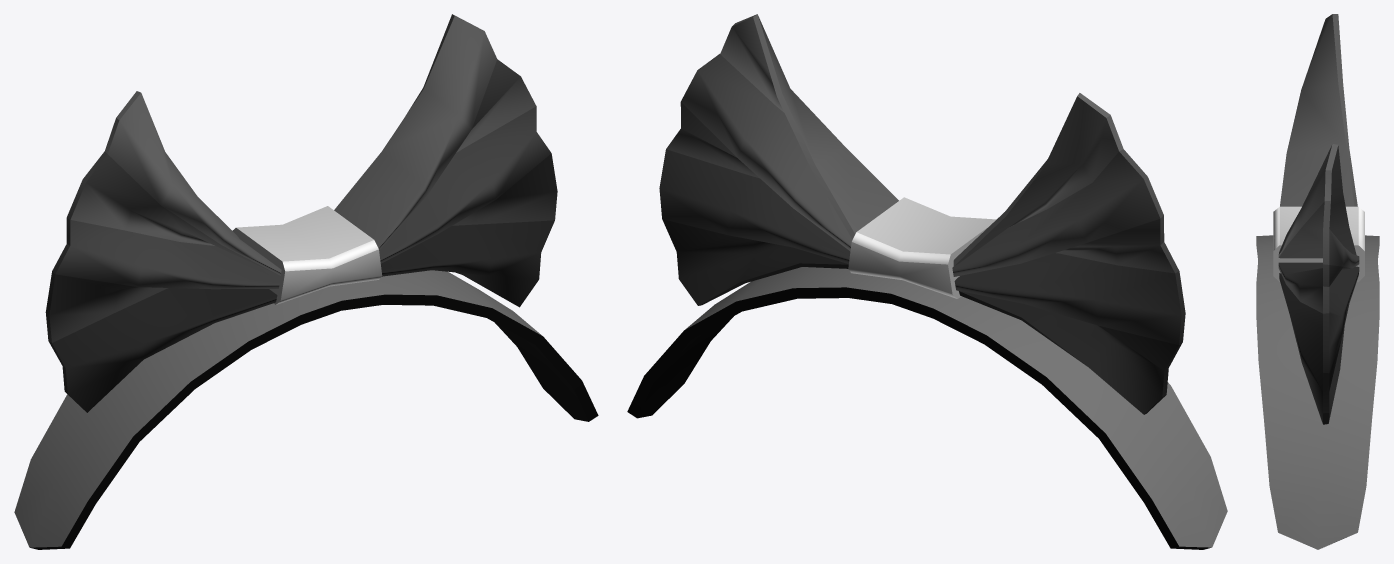
Rendered from HousemaidHoop.fbx.
3 renders of one model, left to right at view 1: azimuth 30°, elevation 25°; view 2: azimuth 150°, elevation 25°; view 3: azimuth 270°, elevation 25°, orthographic. The views are drawn at different scales.
Visible parts, largest first — view 1: HousemaidHoop; view 2: HousemaidHoop; view 3: HousemaidHoop.
Part boxes in pixels (bbox=[...]): HousemaidHoop: bbox=[14, 14, 598, 549]; HousemaidHoop: bbox=[627, 14, 1227, 549]; HousemaidHoop: bbox=[1256, 14, 1379, 549].
Bounding box in the file's own units: 63.41 × 46.37 × 14.43.
